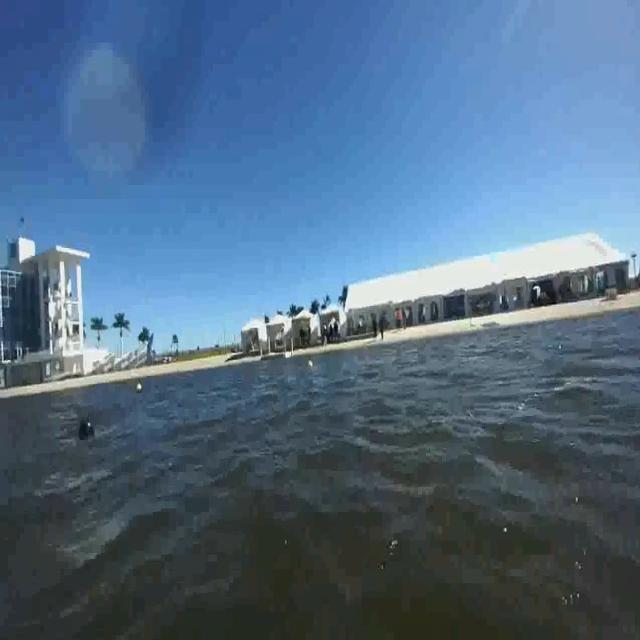black-buoy: (79, 418, 95, 442)
yellow-buoy: (307, 358, 316, 371)
